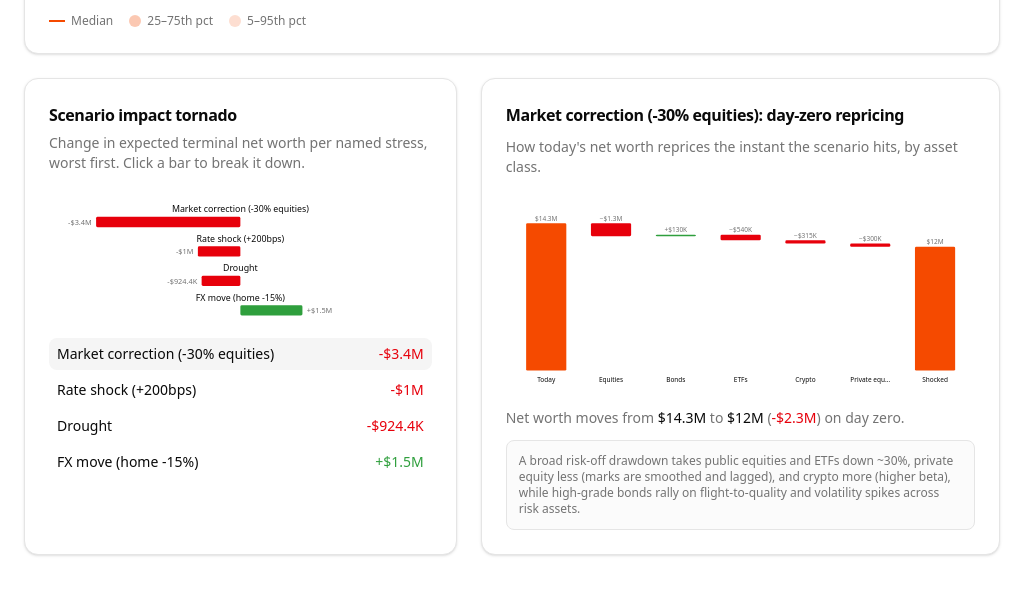
it: ScenarioCockpit › switches the waterfall when another scenario is selected
(page scrolled)
Click the button with test id "scenario-select" at (85, 426), box x1=49 y1=410 x2=432 y2=442
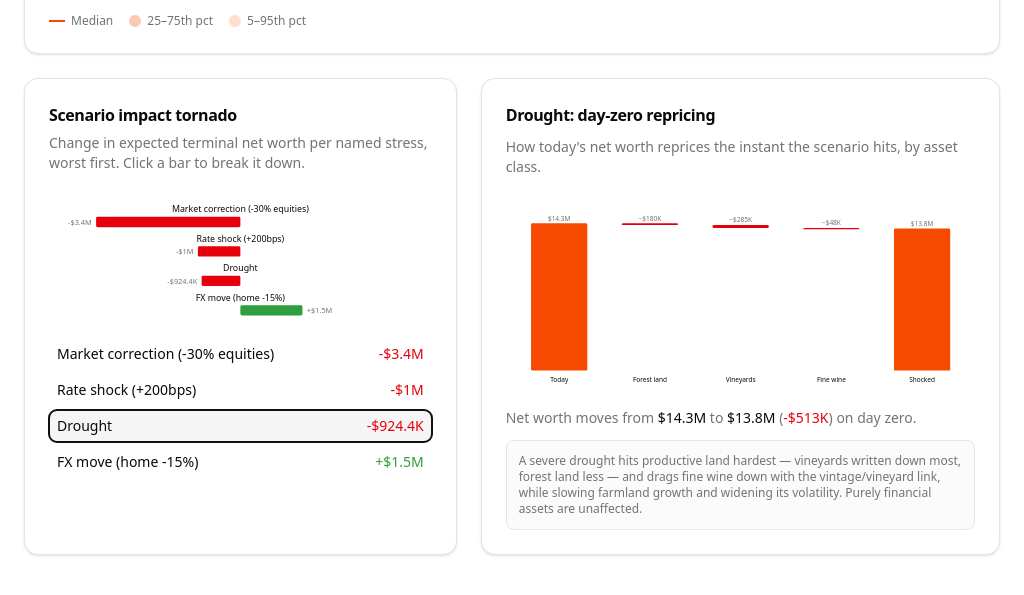
Expected: the element with test id "wf-col-step-0" is shown, x1=633 y1=214 x2=667 y2=384
Expected: the text with test id "waterfall-title" shows "Drought", x1=506 y1=104 x2=570 y2=126
